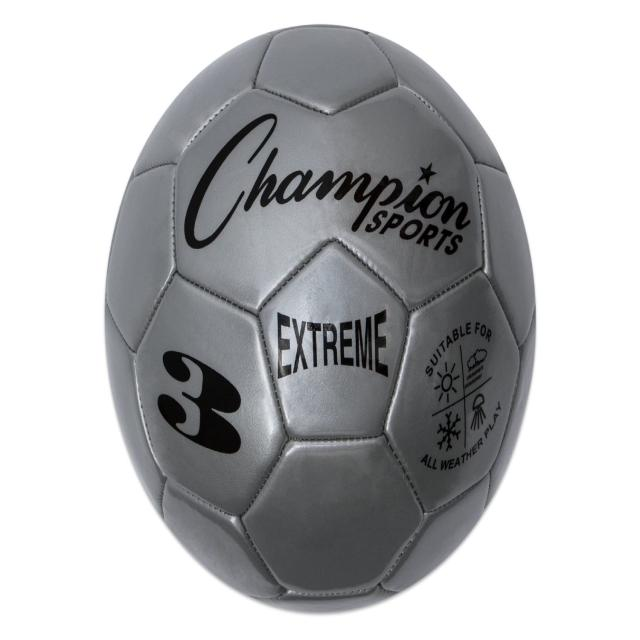soccer ball: (102, 26, 535, 614)
